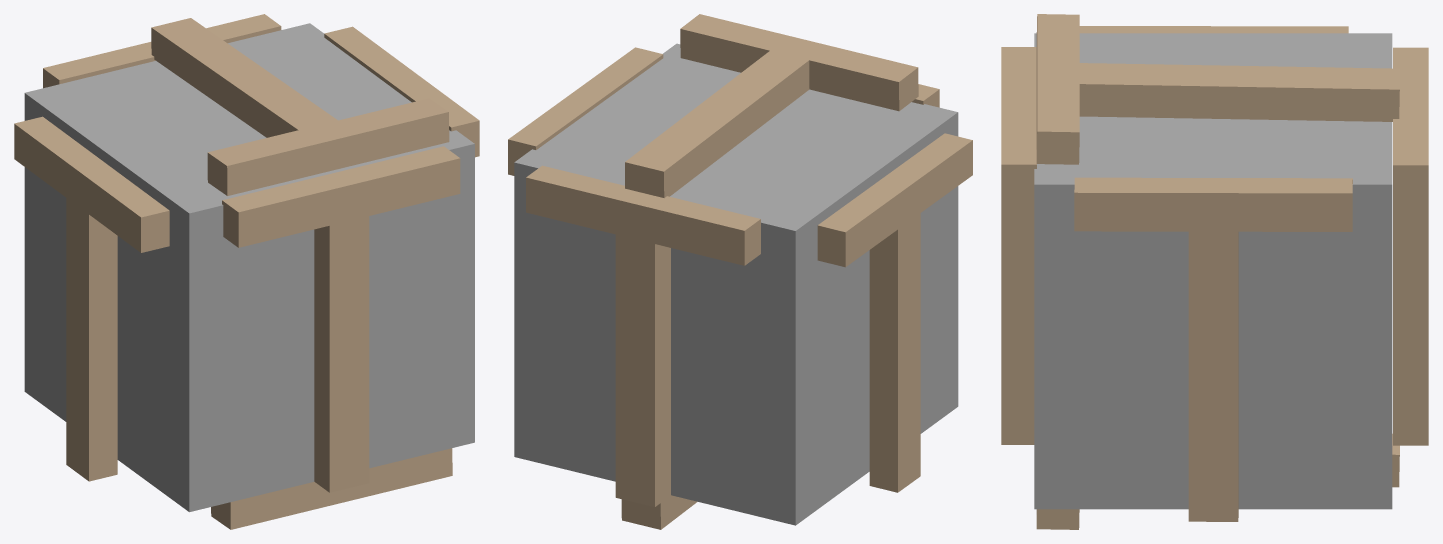
Rendered from LetterT.fbx.
The picture shows the model from 3 angles, left to right: view 1: azimuth 30°, elevation 25°; view 2: azimuth 150°, elevation 25°; view 3: azimuth 270°, elevation 25°; orthographic projection. The views are drawn at different scales.
Parts seen in each view (by area): view 1: Box, Text Front, Text Left, Text Top, Text Bottom, Text Right, Text Back; view 2: Box, Text Back, Text Left, Text Top, Text Right, Text Bottom; view 3: Box, Text Right, Text Top, Text Back, Text Front, Text Left, Text Bottom.
Boxes of the visible parts, x1=… form: Box: x1=24, y1=23, x2=474, y2=512; Text Front: x1=222, y1=146, x2=460, y2=492; Text Left: x1=14, y1=116, x2=169, y2=481; Text Top: x1=151, y1=18, x2=449, y2=195; Text Bottom: x1=211, y1=448, x2=452, y2=529; Text Right: x1=324, y1=26, x2=479, y2=157; Text Back: x1=43, y1=14, x2=281, y2=88; Box: x1=514, y1=43, x2=958, y2=525; Text Back: x1=526, y1=165, x2=760, y2=507; Text Left: x1=817, y1=133, x2=972, y2=492; Text Top: x1=625, y1=14, x2=918, y2=197; Text Right: x1=508, y1=47, x2=663, y2=175; Text Bottom: x1=621, y1=495, x2=697, y2=529; Box: x1=1034, y1=33, x2=1392, y2=509; Text Right: x1=1074, y1=177, x2=1352, y2=521; Text Top: x1=1036, y1=14, x2=1399, y2=164; Text Back: x1=1393, y1=47, x2=1428, y2=445; Text Front: x1=1001, y1=47, x2=1036, y2=444; Text Left: x1=1079, y1=26, x2=1348, y2=33; Text Bottom: x1=1036, y1=433, x2=1399, y2=529.
Bounding box in the file's own units: 1.2 × 1.24 × 1.19.
